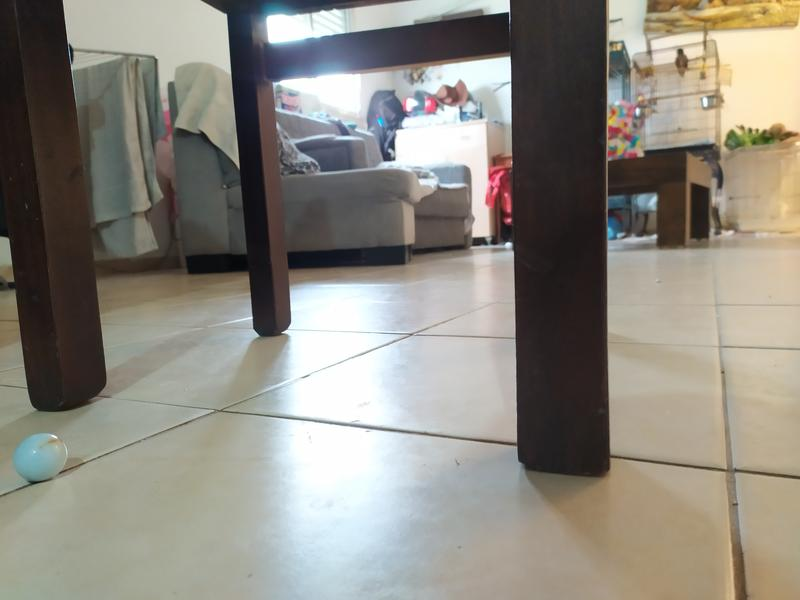Warning: (11, 430, 70, 484)
